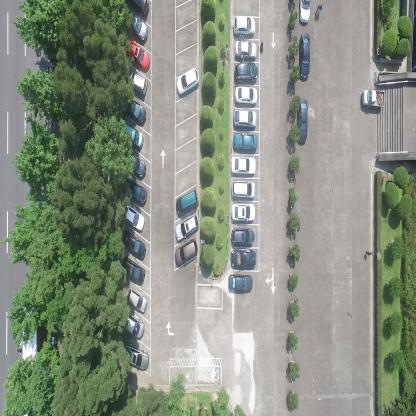car: (124, 39, 150, 73), (122, 342, 150, 372), (176, 65, 199, 99), (174, 237, 198, 269), (122, 228, 146, 260), (174, 211, 198, 242), (121, 254, 145, 284), (121, 203, 145, 233), (126, 12, 148, 43), (176, 188, 198, 218), (126, 286, 148, 315), (125, 178, 147, 207), (124, 151, 146, 179), (123, 122, 144, 151), (296, 96, 308, 146), (123, 312, 145, 339), (124, 98, 146, 125), (126, 69, 148, 96), (298, 33, 310, 82), (232, 132, 257, 154), (230, 249, 256, 270), (232, 201, 256, 223), (230, 179, 256, 199), (232, 15, 256, 36), (233, 62, 258, 82), (233, 40, 256, 61), (233, 108, 256, 129), (361, 88, 385, 108), (231, 156, 257, 174), (234, 86, 257, 106), (228, 273, 253, 291), (231, 228, 255, 246), (126, 0, 148, 19), (298, 0, 313, 26)
